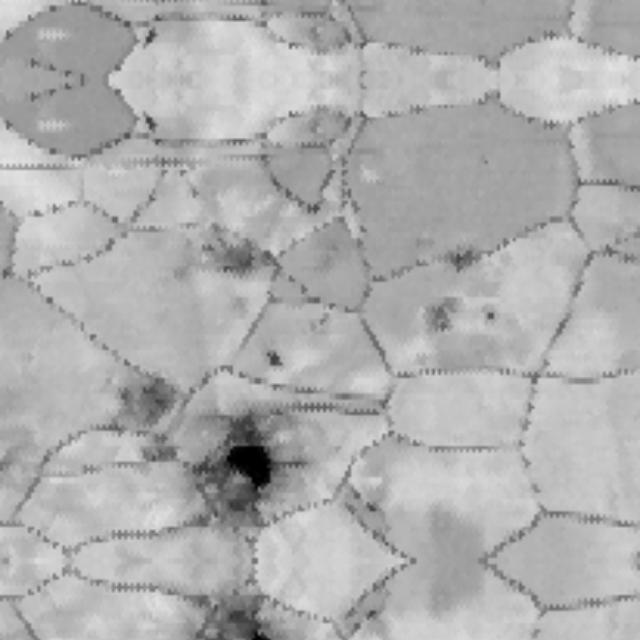good_void: (214, 429, 305, 497), (200, 227, 264, 283), (121, 367, 181, 424), (413, 295, 464, 344), (0, 430, 40, 491), (346, 484, 389, 523), (346, 598, 389, 637), (441, 239, 484, 271), (140, 429, 179, 462), (139, 107, 164, 136), (313, 304, 338, 333), (139, 22, 164, 51), (261, 349, 288, 370), (483, 302, 505, 323), (184, 184, 202, 200), (177, 167, 189, 176)
